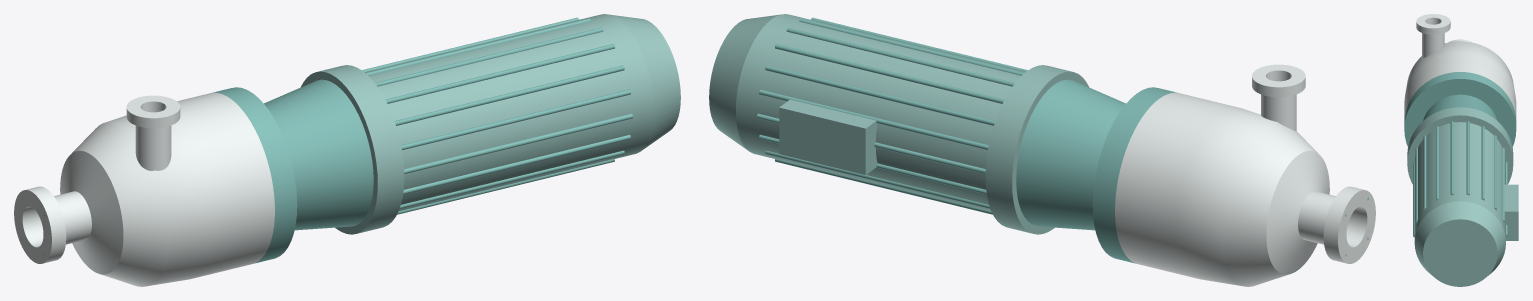
3 views of the same model, side by side, from view 1: azimuth 30°, elevation 25°; view 2: azimuth 150°, elevation 25°; view 3: azimuth 270°, elevation 25° (orthographic). The views are drawn at different scales.
Parts seen in each view (by area): view 1: 泵体_圆弧壳与轴向进液口, 电机_带筋机壳, 连接座_短连接段, 电机_连接法兰, 连接座_泵壳连接环, 电机_圆弧尾罩, 接口_朝上出液法兰, 接口_偏置竖向出液管, 电机_散热筋09, 电机_散热筋08, 电机_散热筋10, 电机_散热筋07 (+6 smaller); view 2: 泵体_圆弧壳与轴向进液口, 电机_带筋机壳, 连接座_短连接段, 电机_连接法兰, 电机_接线盒, 连接座_泵壳连接环, 电机_圆弧尾罩, 接口_朝上出液法兰, 电机_散热筋03, 电机_散热筋04, 电机_散热筋05, 电机_散热筋02 (+7 smaller); view 3: 电机_圆弧尾罩, 电机_带筋机壳, 连接座_泵壳连接环, 泵体_圆弧壳与轴向进液口, 电机_连接法兰, 连接座_短连接段, 电机_接线盒, 接口_朝上出液法兰, 接口_偏置竖向出液管, 电机_散热筋08, 电机_散热筋05, 电机_散热筋04 (+6 smaller).
Boxes of the visible parts, left/top/right/bottom form: 泵体_圆弧壳与轴向进液口: left=14, top=92, right=274, bottom=286; 电机_带筋机壳: left=365, top=14, right=653, bottom=211; 连接座_短连接段: left=264, top=79, right=373, bottom=230; 电机_连接法兰: left=301, top=65, right=404, bottom=234; 连接座_泵壳连接环: left=212, top=87, right=297, bottom=263; 电机_圆弧尾罩: left=610, top=14, right=680, bottom=150; 接口_朝上出液法兰: left=126, top=95, right=180, bottom=128; 接口_偏置竖向出液管: left=135, top=111, right=171, bottom=170; 电机_散热筋09: left=401, top=89, right=630, bottom=150; 电机_散热筋08: left=394, top=65, right=624, bottom=125; 电机_散热筋10: left=404, top=113, right=632, bottom=173; 电机_散热筋07: left=385, top=44, right=614, bottom=103; 泵体_圆弧壳与轴向进液口: left=1115, top=92, right=1375, bottom=286; 电机_带筋机壳: left=736, top=14, right=1024, bottom=211; 连接座_短连接段: left=1016, top=79, right=1125, bottom=230; 电机_连接法兰: left=985, top=65, right=1088, bottom=234; 电机_接线盒: left=779, top=99, right=877, bottom=174; 连接座_泵壳连接环: left=1092, top=87, right=1177, bottom=263; 电机_圆弧尾罩: left=709, top=14, right=779, bottom=150; 接口_朝上出液法兰: left=1252, top=64, right=1305, bottom=97; 电机_散热筋03: left=765, top=65, right=995, bottom=125; 电机_散热筋04: left=775, top=44, right=1004, bottom=103; 电机_散热筋05: left=786, top=27, right=1014, bottom=86; 电机_散热筋02: left=759, top=89, right=988, bottom=150; 电机_圆弧尾罩: left=1414, top=201, right=1505, bottom=286; 电机_带筋机壳: left=1414, top=122, right=1505, bottom=239; 连接座_泵壳连接环: left=1404, top=72, right=1516, bottom=146; 泵体_圆弧壳与轴向进液口: left=1404, top=39, right=1516, bottom=120; 电机_连接法兰: left=1407, top=107, right=1513, bottom=184; 连接座_短连接段: left=1423, top=94, right=1497, bottom=120; 电机_接线盒: left=1504, top=184, right=1518, bottom=240; 接口_朝上出液法兰: left=1416, top=14, right=1450, bottom=34; 接口_偏置竖向出液管: left=1422, top=24, right=1444, bottom=57; 电机_散热筋08: left=1423, top=135, right=1426, bottom=210; 电机_散热筋05: left=1466, top=121, right=1469, bottom=195; 电机_散热筋04: left=1481, top=126, right=1484, bottom=200.
Size of the model in its own units: 2.03 by 0.598 by 0.5096.
